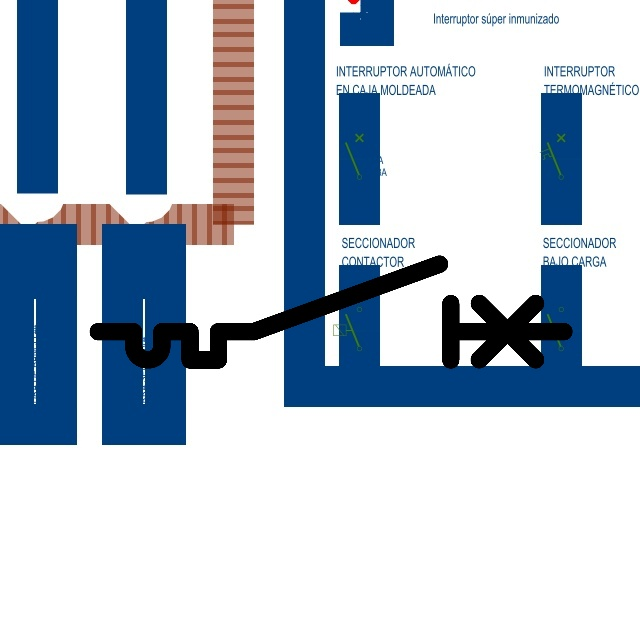interruptor_termomagnetico: (86, 252, 576, 372)
